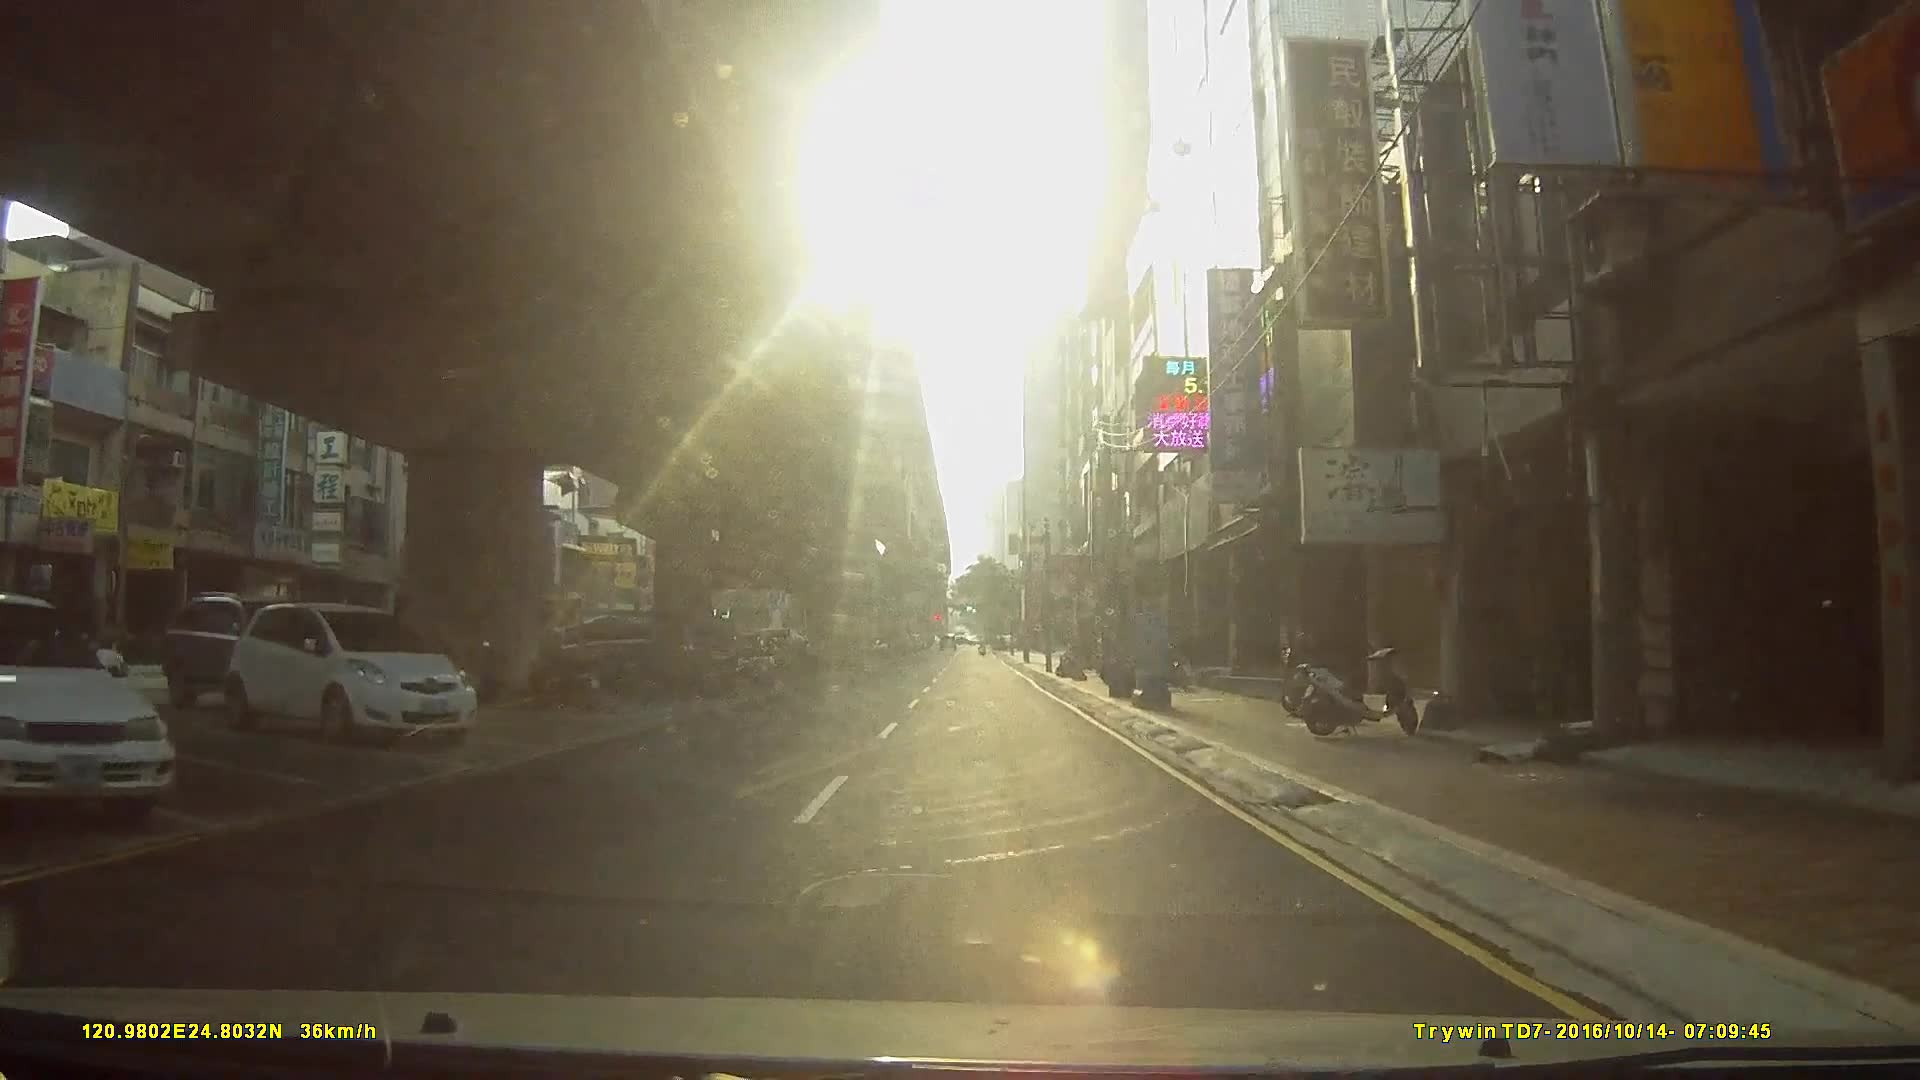vehicle: (0, 592, 177, 829), (220, 599, 477, 746), (156, 592, 314, 702)
